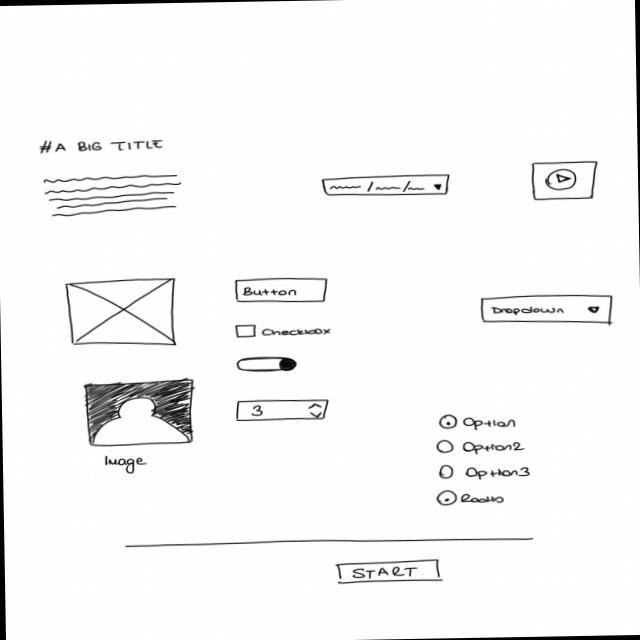button: (332, 556, 444, 586), (230, 274, 330, 305)
checkbox: (233, 321, 334, 339)
image: (64, 275, 178, 350), (83, 374, 197, 448)
label: (34, 136, 168, 156), (102, 452, 150, 474)
number-input: (232, 396, 331, 424)
radio: (437, 460, 533, 482), (432, 436, 527, 455), (431, 487, 508, 509), (436, 412, 518, 432)
select: (478, 290, 614, 327), (320, 171, 453, 199)
textbox: (41, 172, 183, 218)
toggle: (232, 354, 299, 374)
